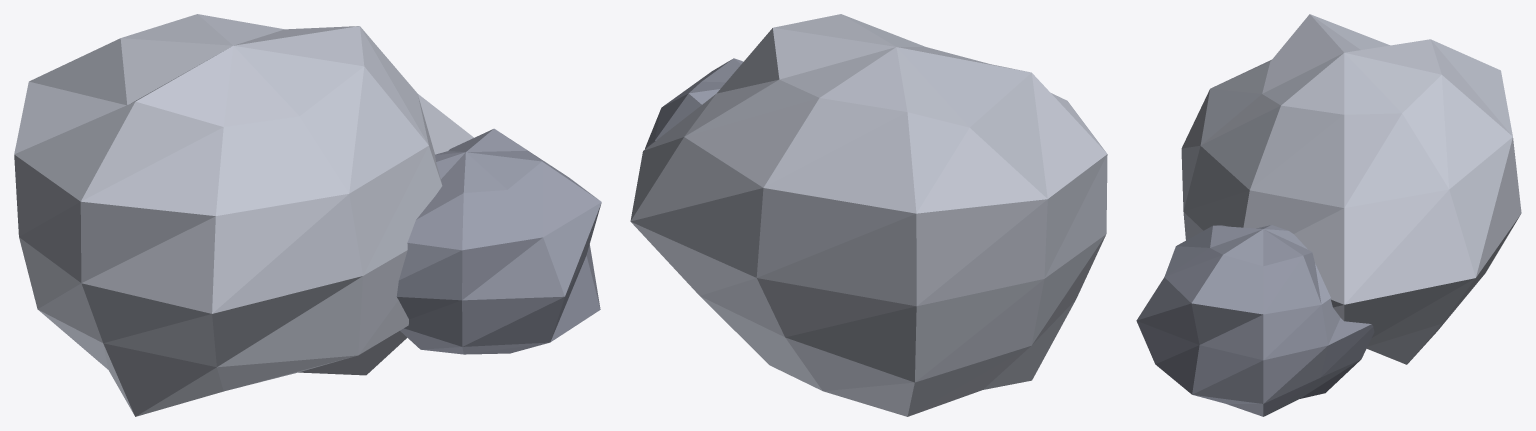
Rendered from Rock.obj.
3 renders of one model, left to right at view 1: azimuth 30°, elevation 25°; view 2: azimuth 150°, elevation 25°; view 3: azimuth 270°, elevation 25°, orthographic. The views are drawn at different scales.
Parts seen in each view (by area): view 1: Rock; view 2: Rock; view 3: Rock.
Boxes of the visible parts, box(x1,y1,x2,y2) form: Rock: box(14, 14, 601, 416); Rock: box(630, 14, 1107, 416); Rock: box(1136, 14, 1521, 416).
Bounding box in the file's own units: 1.2 × 0.7609 × 0.9531.
1 material, 1 textured.
